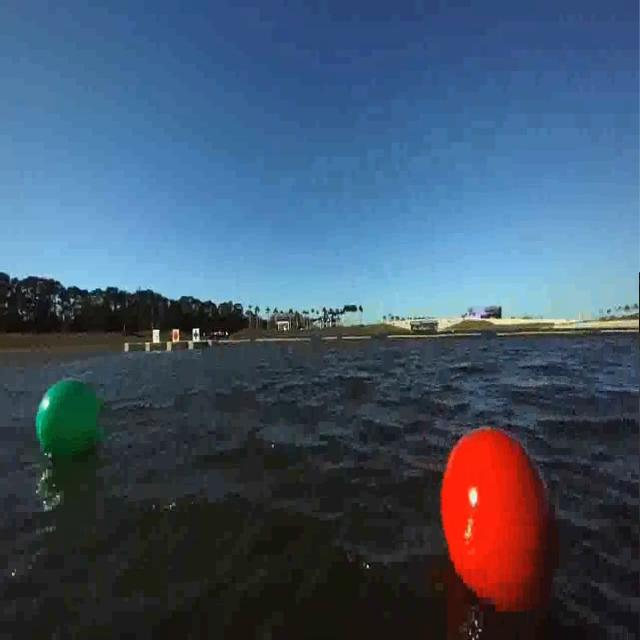green-buoy: (34, 378, 102, 461)
red-buoy: (436, 421, 554, 609)
